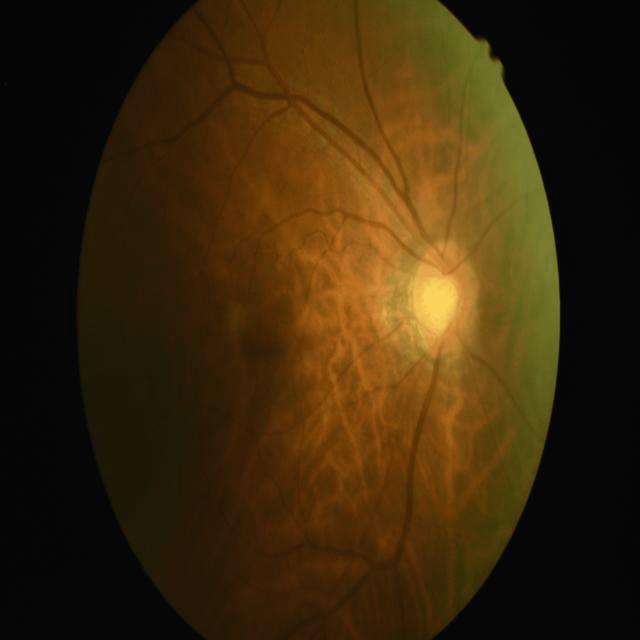cup: (417, 274, 460, 336)
disk: (410, 239, 475, 357)
